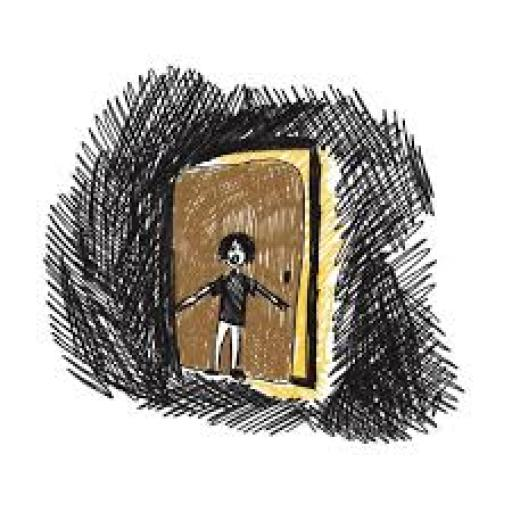person: (170, 223, 296, 387)
